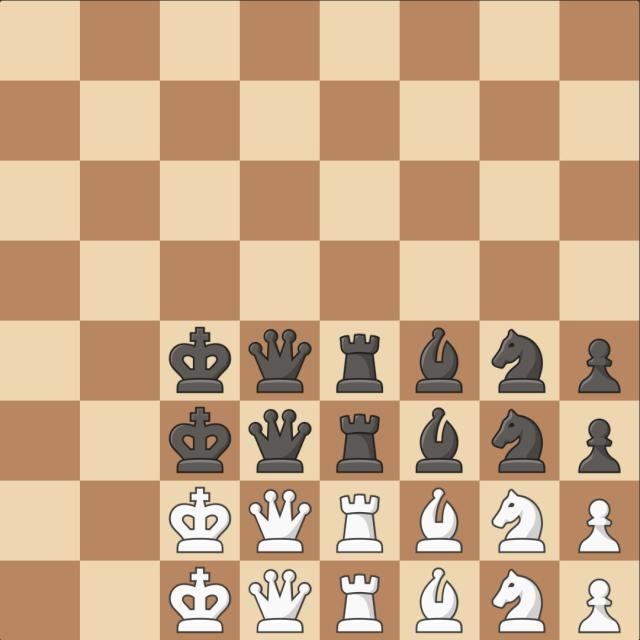black-bishop: (415, 328, 463, 393), (415, 408, 463, 473)
black-king: (168, 327, 232, 394), (168, 407, 232, 474)
black-knight: (491, 409, 546, 474), (491, 328, 546, 393)
black-pawn: (578, 418, 621, 473), (578, 339, 621, 394)
black-queen: (249, 329, 313, 394), (248, 409, 312, 474)
black-rook: (336, 334, 384, 394), (336, 414, 384, 474)
white-bishop: (415, 487, 463, 553), (415, 568, 463, 634)
white-king: (168, 487, 232, 554), (169, 567, 233, 634)
white-knight: (491, 569, 546, 634), (491, 489, 546, 554)
white-pawn: (578, 579, 621, 634), (578, 499, 621, 554)
white-queen: (248, 488, 312, 553), (249, 568, 313, 633)
white-rook: (336, 494, 384, 554), (336, 574, 384, 634)
